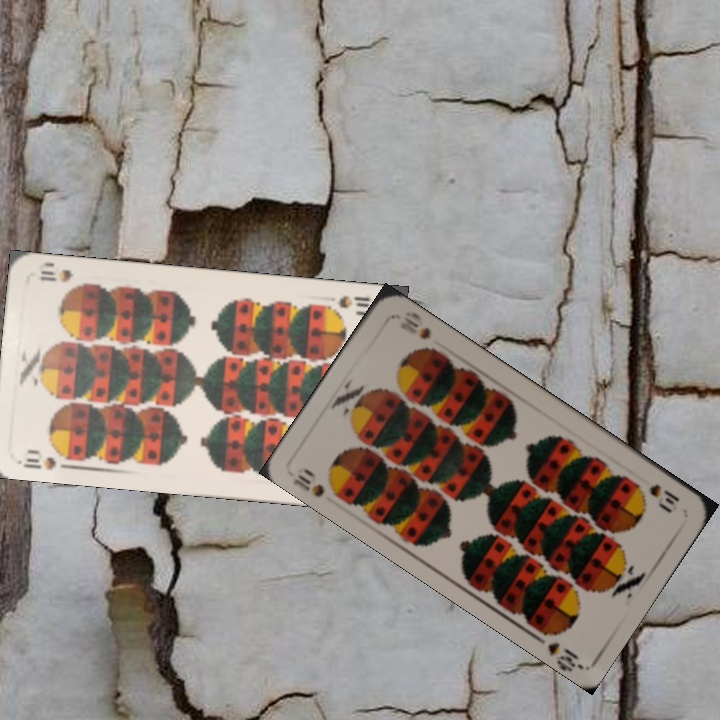S10: (289, 464, 343, 501), (15, 448, 75, 472), (645, 480, 683, 514), (334, 291, 374, 311)
